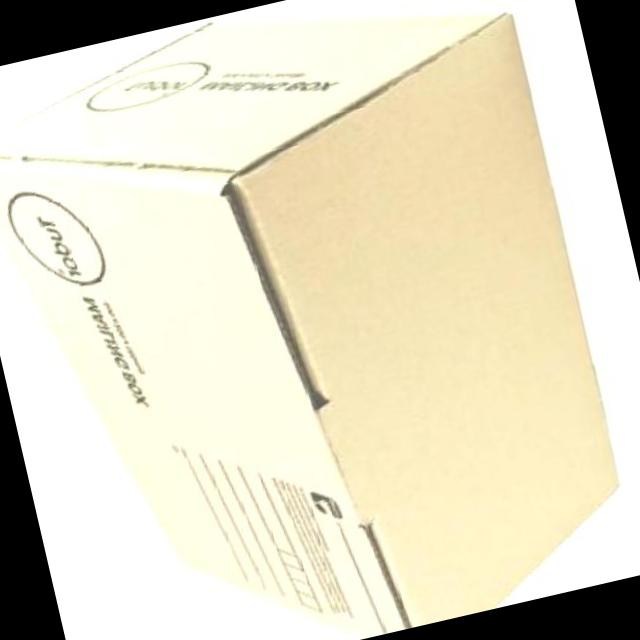box: (1, 11, 621, 639)
